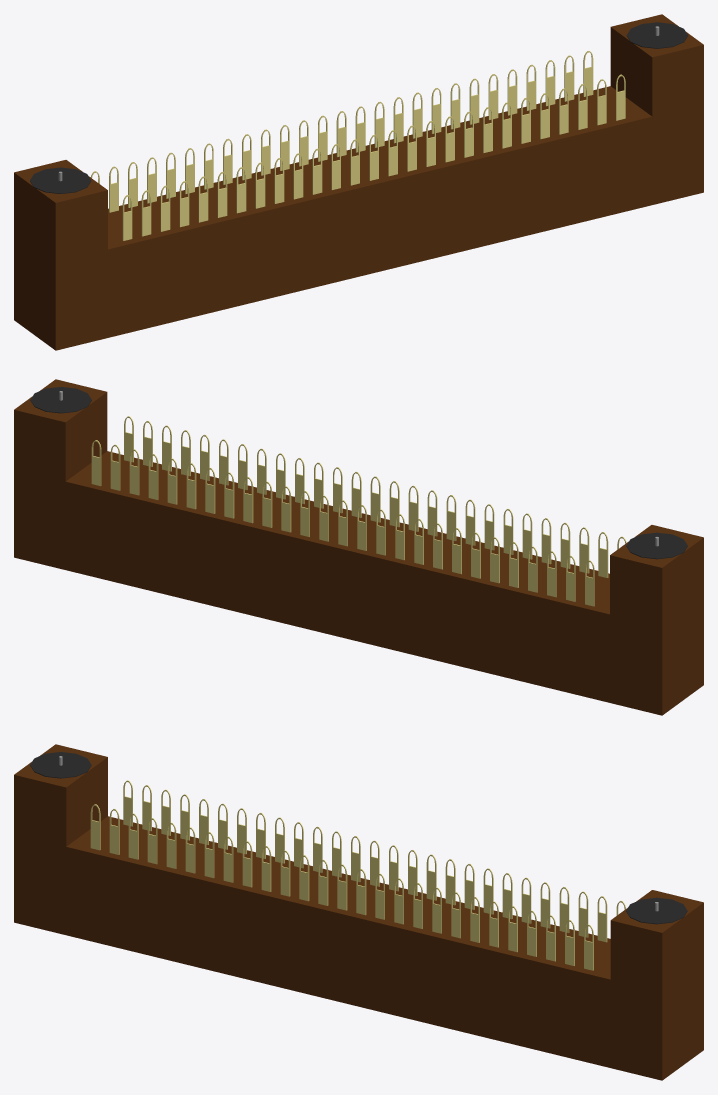
Rendered from Goldstecker.fbx.
The picture shows the model from 3 angles, top to bottom: view 1: azimuth 30°, elevation 25°; view 2: azimuth 150°, elevation 25°; view 3: azimuth 330°, elevation 25°; orthographic projection.
Visible parts, largest first — view 1: Goldstecker; view 2: Goldstecker; view 3: Goldstecker.
Part boxes in pixels (<box>): Goldstecker: <box>14,14,703,350</box>; Goldstecker: <box>14,379,703,715</box>; Goldstecker: <box>14,744,703,1080</box>.
Size of the model in its own units: 236 by 54.29 by 26.22.
